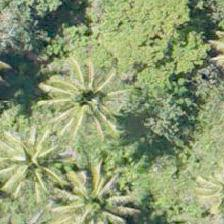Kelapa_Sawit: (36, 54, 126, 144), (0, 114, 64, 204), (47, 167, 138, 223)
